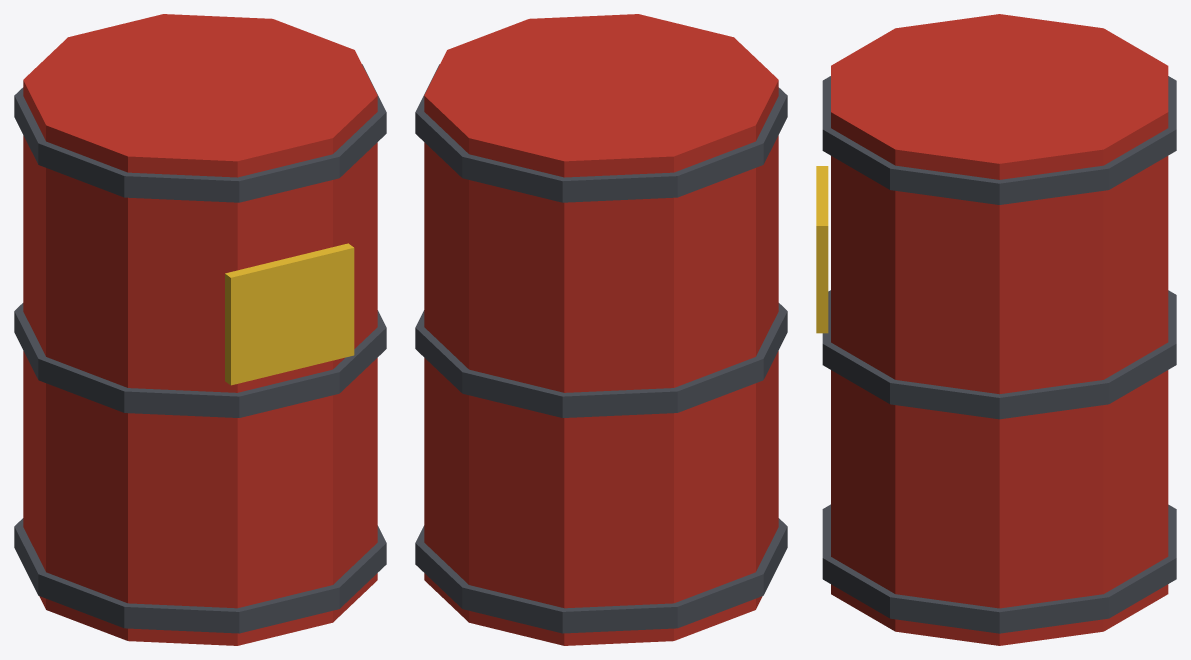
File: barrel_red.glb
The picture shows the model from 3 angles, left to right: view 1: azimuth 30°, elevation 25°; view 2: azimuth 150°, elevation 25°; view 3: azimuth 270°, elevation 25°; orthographic projection.
Parts seen in each view (by area): view 1: barrel_red; view 2: barrel_red; view 3: barrel_red.
Boxes of the visible parts, left/top/right/bottom form: barrel_red: left=14, top=14, right=386, bottom=645; barrel_red: left=415, top=14, right=787, bottom=645; barrel_red: left=816, top=14, right=1176, bottom=645.
Bounding box in the file's own units: 0.63 × 0.9 × 0.6096.
